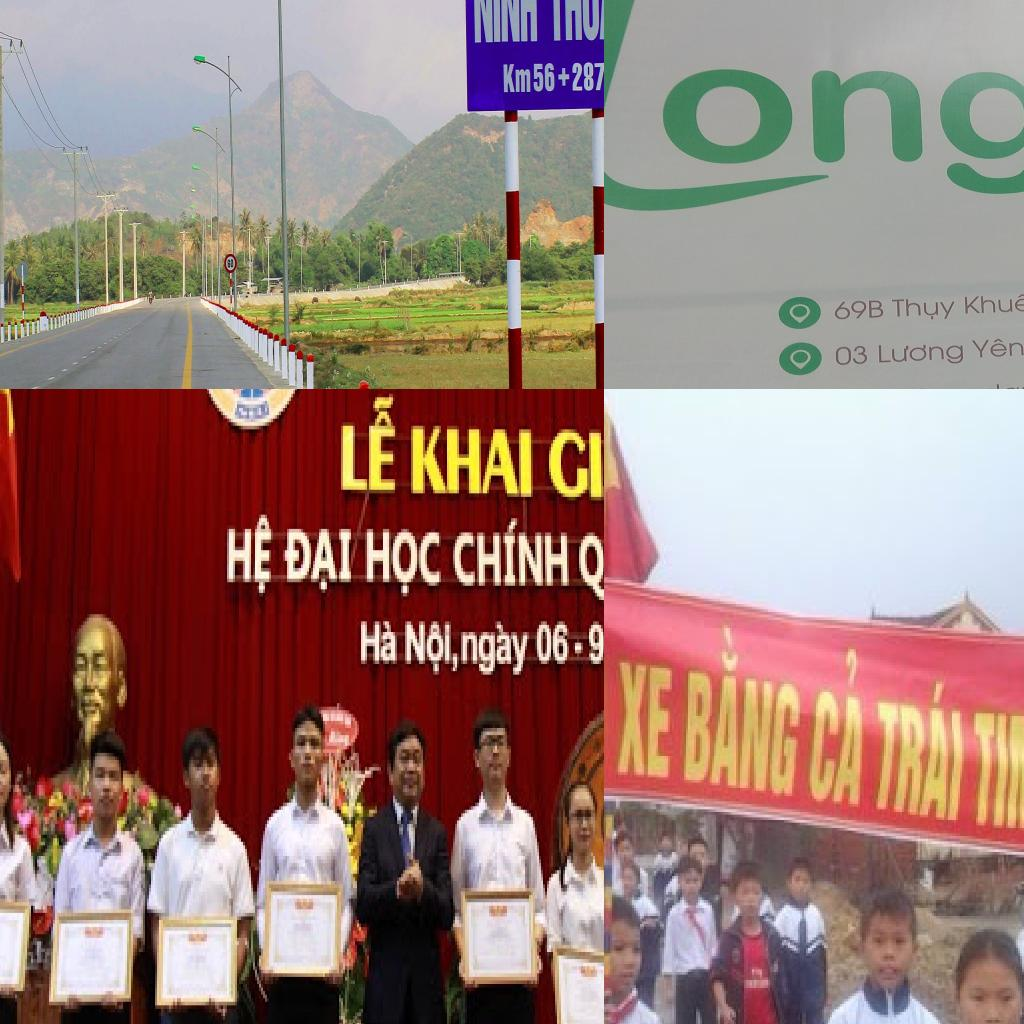text: (604, 0, 1024, 215), (682, 620, 810, 801), (872, 673, 966, 828), (411, 415, 537, 501), (806, 647, 868, 809), (451, 518, 571, 590), (612, 660, 674, 780), (337, 389, 403, 500), (968, 705, 1024, 835), (547, 401, 604, 511), (365, 529, 443, 600), (283, 525, 355, 600), (461, 618, 531, 682), (225, 515, 275, 600), (403, 621, 461, 682), (548, 0, 604, 57), (473, 0, 537, 43), (834, 375, 1024, 389), (876, 341, 964, 367), (355, 618, 399, 668), (575, 532, 604, 603), (535, 621, 571, 671), (891, 298, 957, 322), (962, 293, 1024, 314), (968, 337, 1024, 358), (833, 300, 884, 320), (585, 621, 604, 674), (833, 342, 869, 366), (503, 64, 531, 93), (533, 63, 556, 92), (558, 68, 570, 86), (227, 259, 234, 268)
